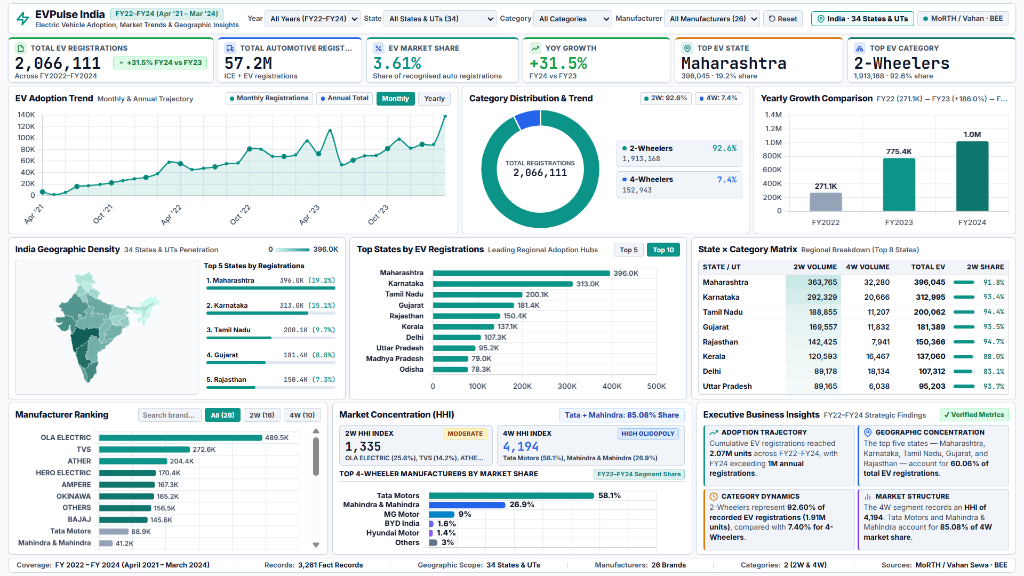

Layout of this report page (visuals, bound fields, positions):
{"tool":"powerbi","page":{"name":"EVPulse India | Executive Dashboard","canvas":[1920,1080],"ordinal":0},"visuals":[{"type":"cardVisual","fields":{"Data":["All Measures.EV Sold Makers","All Measures.Revnue 2Ws Makers","All Measures.Revnue 4Ws Makers","All Measures.CAGR for EV Makers"]},"box":[24,140,1872,95],"z":100},{"type":"lineChart","fields":{"Category":["Dates.Month"],"Y":["All Measures.EV Sold Makers"],"Series":["Dates.fiscal_year"]},"box":[24,245,924,260],"z":200},{"type":"donutChart","title":"EV Sold by Vehicle Category","fields":{"Category":["EV Category.vehicle_category"],"Y":["All Measures.EV Sold Makers"]},"box":[960,245,456,260],"z":300},{"type":"card","fields":{"Values":["All Measures.Top / Bottom N Title For Ribbon Chart Makers Page"]},"box":[1428,245,468,125],"z":400},{"type":"card","fields":{"Values":["All Measures.Top / Bottom-N Title for Bar Chart Makers Page"]},"box":[1428,380,468,125],"z":401},{"type":"clusteredBarChart","fields":{"Category":["dim_states.state"],"Y":["All Measures.Labels Placeholder for Horizontal Bar Chart for CAGR State TV","All Measures.Ranking_States_CAGR_TV"]},"box":[24,515,612,260],"z":500},{"type":"donutChart","title":"EV Sales & Penetration Rate Comparision Delhi vs Karanataka","fields":{"Category":["dim_states.state"],"Y":["All Measures.Penetration_Rate"]},"box":[648,515,612,260],"z":600},{"type":"clusteredBarChart","fields":{"Category":["EV Makers.maker"],"Y":["All Measures.Labels Placeholder for Bar Chart","All Measures.Ranking_Makers_CAGR"]},"box":[1272,515,624,260],"z":700},{"type":"scatterChart","fields":{"X":["All Measures.Ranking_Makers_Marketshare"],"Category":["EV Makers.maker"],"Y":["All Measures.Ranking_Makers_GrowthRate_YoY_based_on_marketshare"],"Size":["All Measures.Ranking_EVs_Sold_Makers_based_on_marketshare"]},"box":[24,785,750,235],"z":800},{"type":"textbox","box":[786,785,1110,235],"z":900},{"type":"slicer","title":"TopN Slider","fields":{"Values":["TopN Slicer for Makers.TopN makers"]},"box":[24,82,450,50],"z":1000},{"type":"advancedSlicerVisual","fields":{"Values":["TopBottom.Value"]},"box":[490,82,450,50],"z":1001}]}

Visuals, with their boxes in screenshot pixels (x1, y1, x2, y2), scaled from the page's 1920x1080 canvas onto the 1024x576 screenshot:
cardVisual - All Measures.EV Sold Makers x All Measures.Revnue 2Ws Makers: <bbox>13, 75, 1011, 125</bbox>
lineChart - Dates.Month x All Measures.EV Sold Makers: <bbox>13, 131, 506, 269</bbox>
"EV Sold by Vehicle Category" donutChart: <bbox>512, 131, 755, 269</bbox>
card - All Measures.Top / Bottom N Title For Ribbon Chart Makers Page: <bbox>762, 131, 1011, 197</bbox>
card - All Measures.Top / Bottom-N Title for Bar Chart Makers Page: <bbox>762, 203, 1011, 269</bbox>
clusteredBarChart - dim_states.state x All Measures.Labels Placeholder for Horizontal Bar Chart for CAGR State TV: <bbox>13, 275, 339, 413</bbox>
"EV Sales & Penetration Rate Comparision Delhi vs Karanataka" donutChart: <bbox>346, 275, 672, 413</bbox>
clusteredBarChart - EV Makers.maker x All Measures.Labels Placeholder for Bar Chart: <bbox>678, 275, 1011, 413</bbox>
scatterChart - All Measures.Ranking_Makers_Marketshare x EV Makers.maker: <bbox>13, 419, 413, 544</bbox>
textbox: <bbox>419, 419, 1011, 544</bbox>
"TopN Slider" slicer: <bbox>13, 44, 253, 70</bbox>
advancedSlicerVisual - TopBottom.Value: <bbox>261, 44, 501, 70</bbox>
